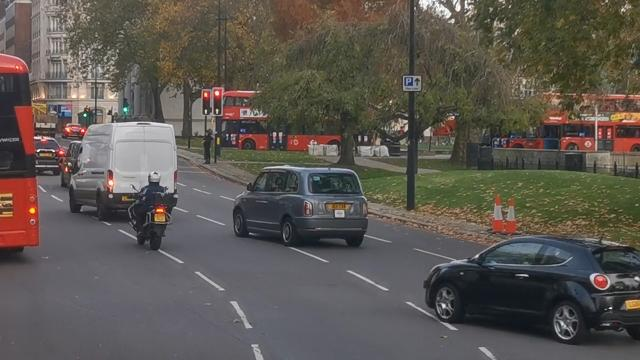bus: (508, 89, 640, 153), (215, 92, 355, 152), (0, 49, 34, 247)
car: (420, 240, 636, 344), (232, 163, 371, 244), (35, 136, 62, 175)
motorcycle: (124, 171, 182, 250)
van: (66, 120, 177, 216)
